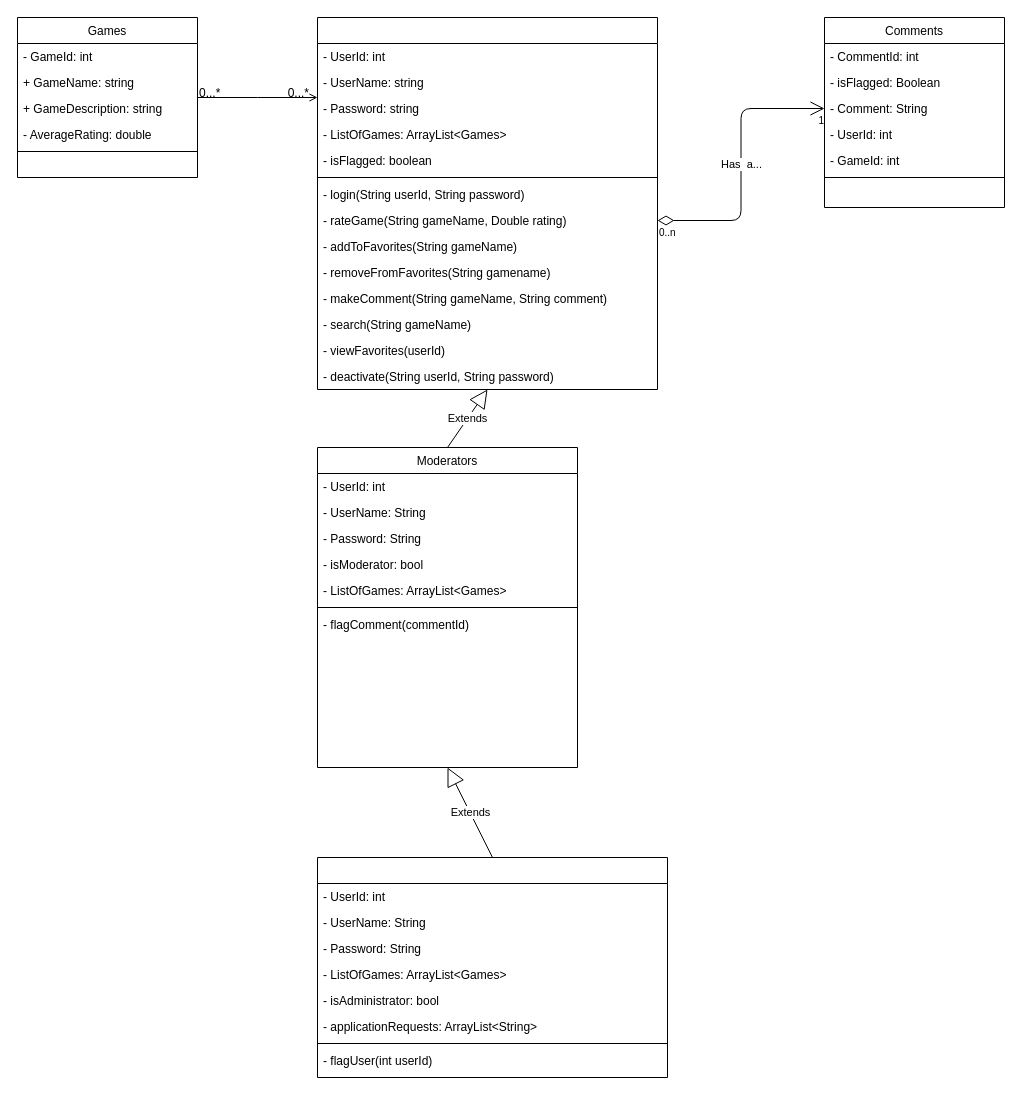
Some shapes in this 1022 by 1095 pixel diagram are drawn without their labels. Each missing label, with the box of its shape:
Administrators: (316, 856, 668, 1078)
Users: (316, 16, 658, 390)
